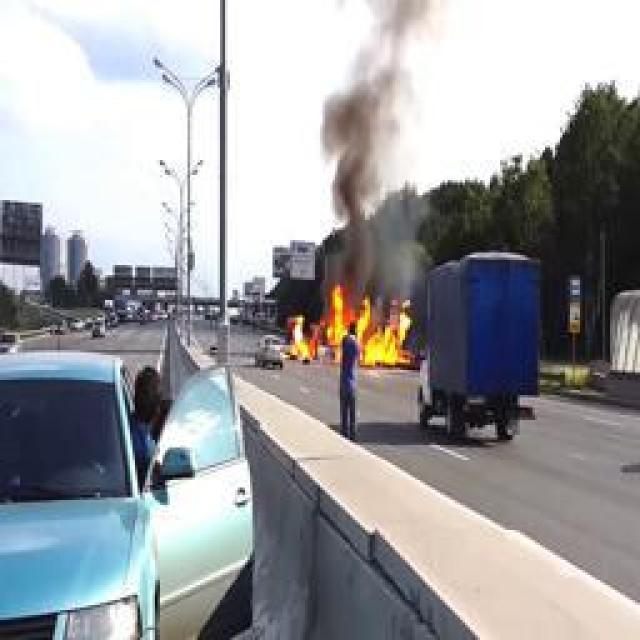Fire: (292, 284, 416, 366)
